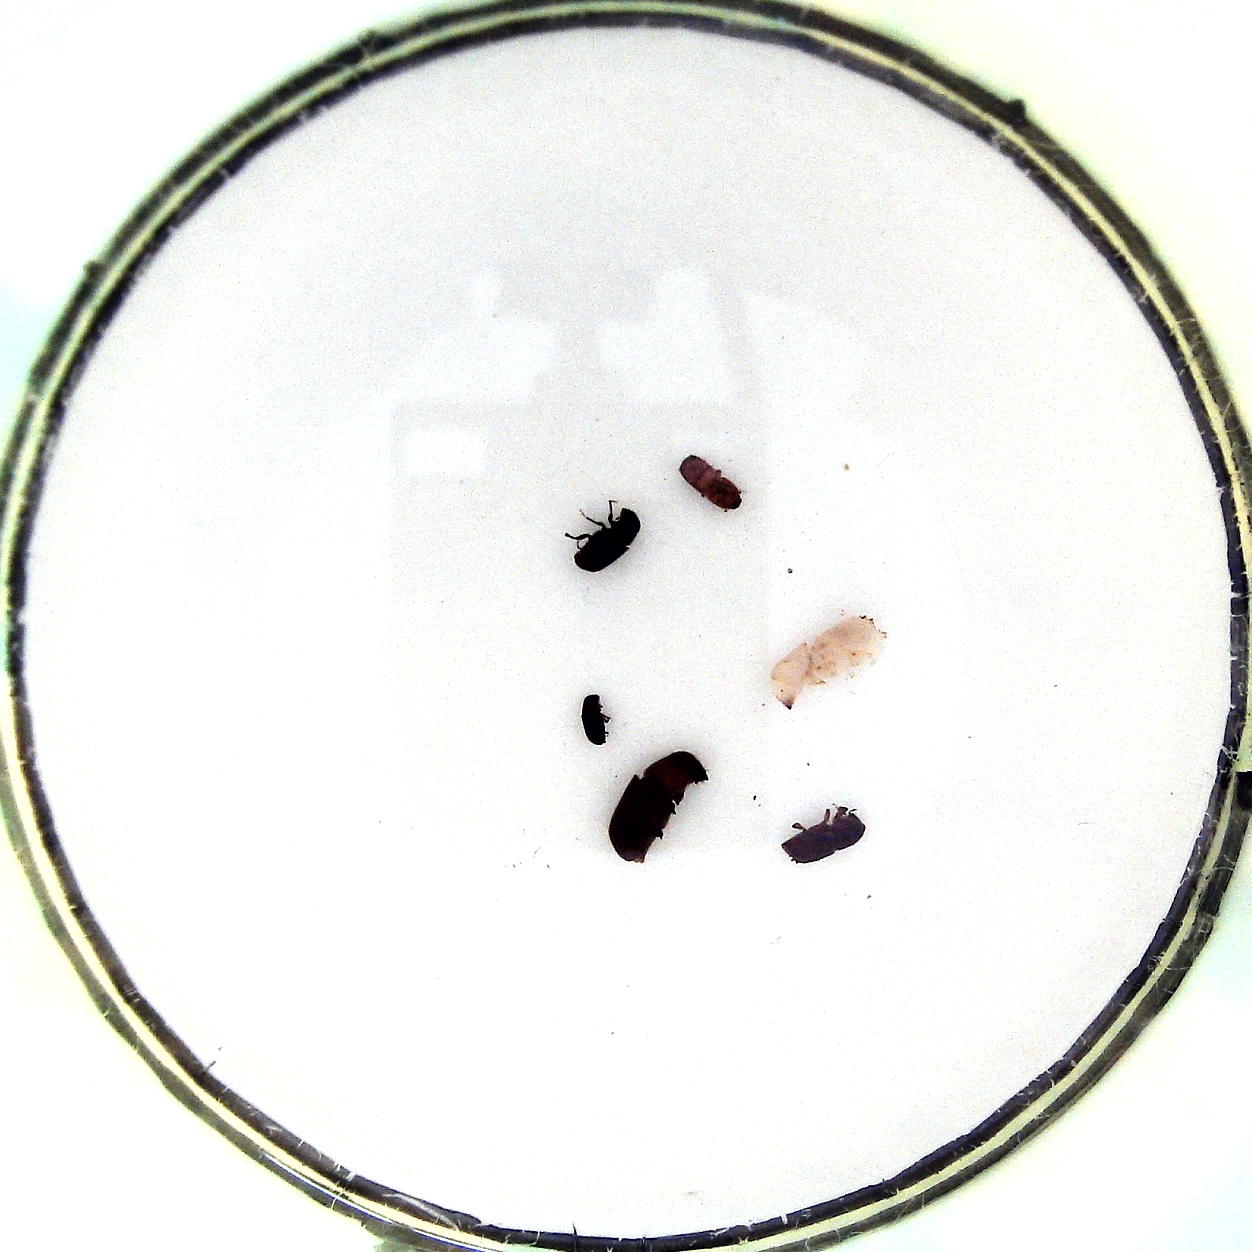Boerner: (762, 607, 894, 722)
Leconte: (607, 750, 714, 864)
Linnaeus: (781, 800, 868, 864)
acuminatus: (676, 454, 751, 515)
armandi: (560, 492, 643, 574)
coleoptera: (573, 691, 615, 748)
